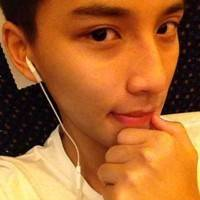face_mask: (41, 1, 184, 144)
